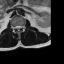CCS_normal: (17, 23, 19, 32)
LFS_normal: (21, 23, 23, 30)
LLS_normal: (19, 23, 21, 30)
RFS_normal: (13, 24, 15, 30)
RLS_normal: (15, 23, 17, 30)
